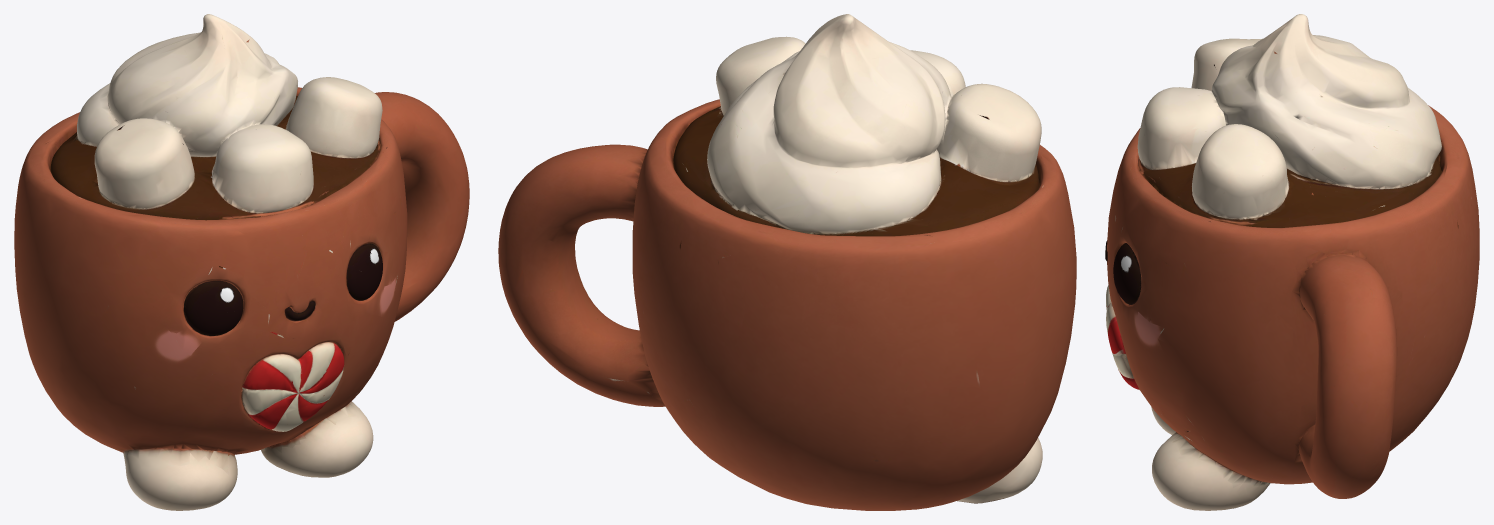
The model's file is Coco.fbx.
The picture shows the model from 3 angles, left to right: view 1: azimuth 30°, elevation 25°; view 2: azimuth 150°, elevation 25°; view 3: azimuth 270°, elevation 25°; orthographic projection. The views are drawn at different scales.
Parts seen in each view (by area): view 1: Mesh_0; view 2: Mesh_0; view 3: Mesh_0.
Part boxes in pixels (<box>): Mesh_0: <box>14,14,469,510</box>; Mesh_0: <box>498,14,1076,510</box>; Mesh_0: <box>1105,14,1479,510</box>.
Bounding box in the file's own units: 215 × 194 × 147.
Materials: 1 (1 with a texture image).
